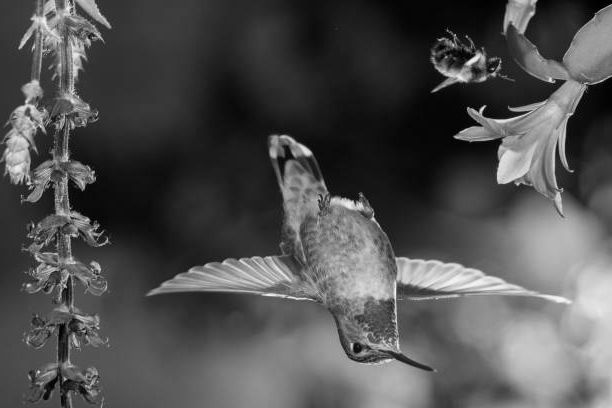Bird: (142, 132, 575, 375)
